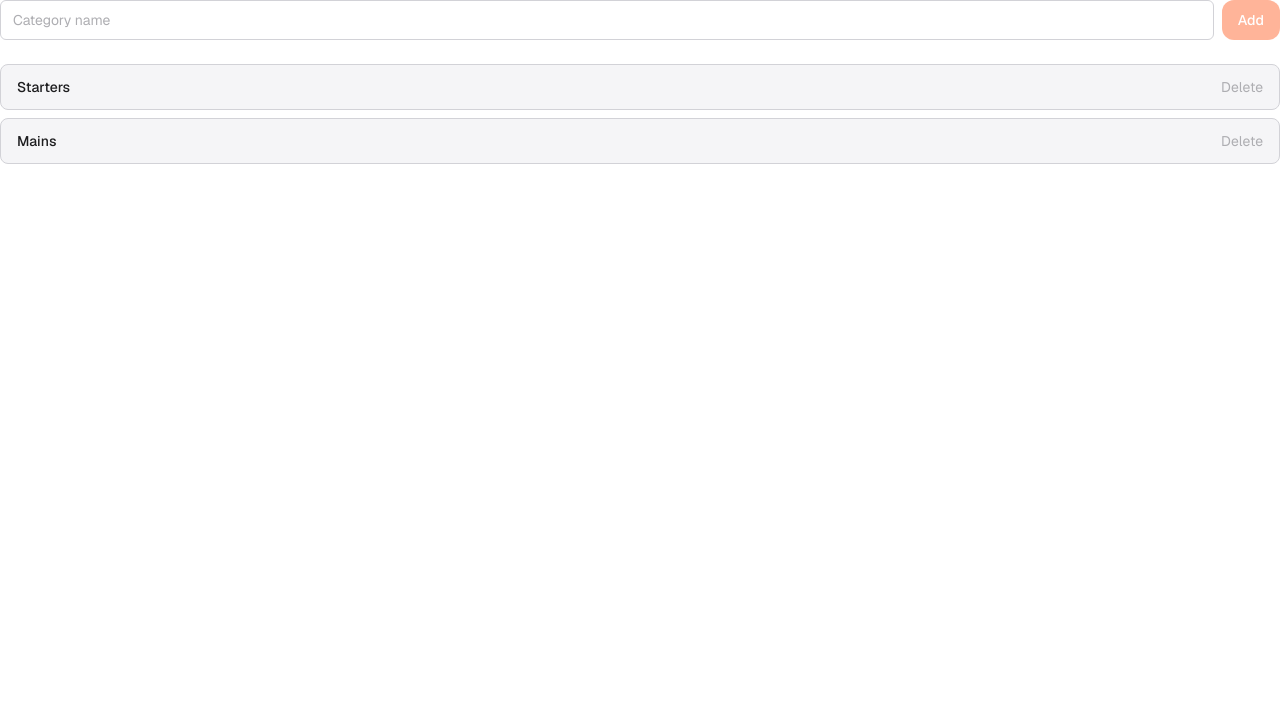
CategoryManager › shows inline error in dialog when deleteCategory fails
Step 1. Click the 1st button "Delete" → (1242, 87), box [1221,77,1263,97]
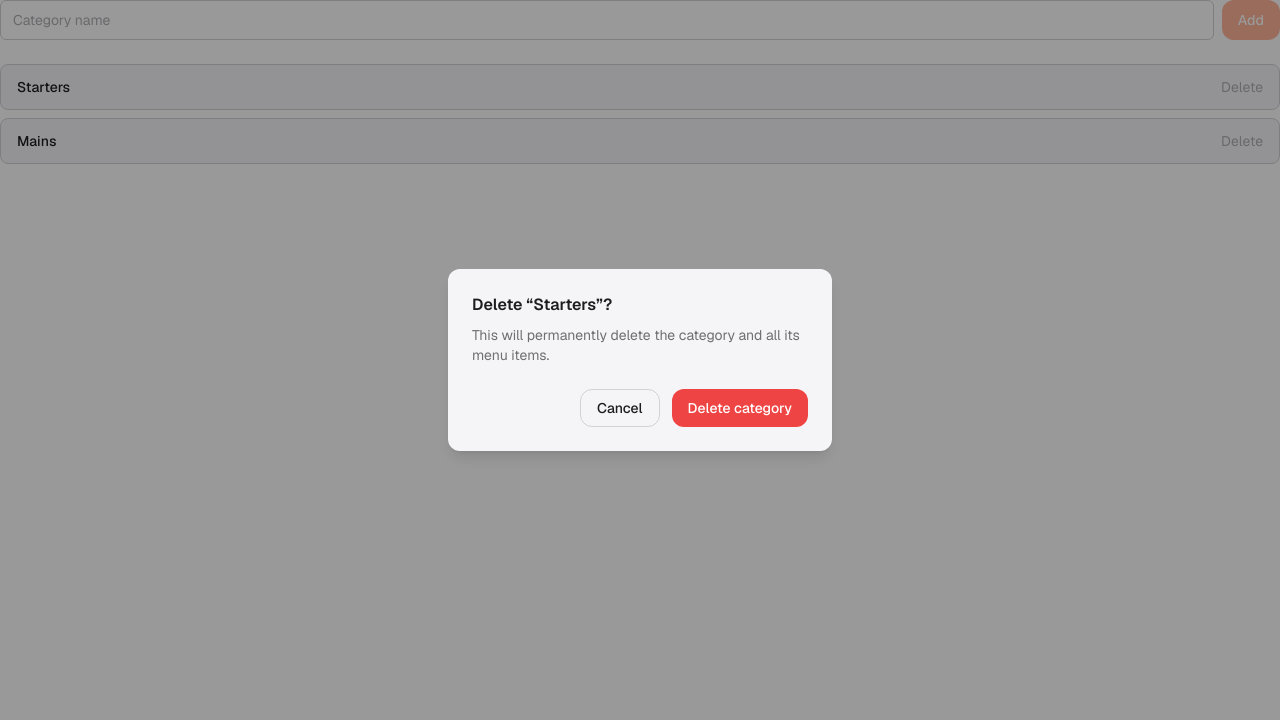
Step 2. Click the button "Delete category" → (740, 408), box [672,389,808,427]
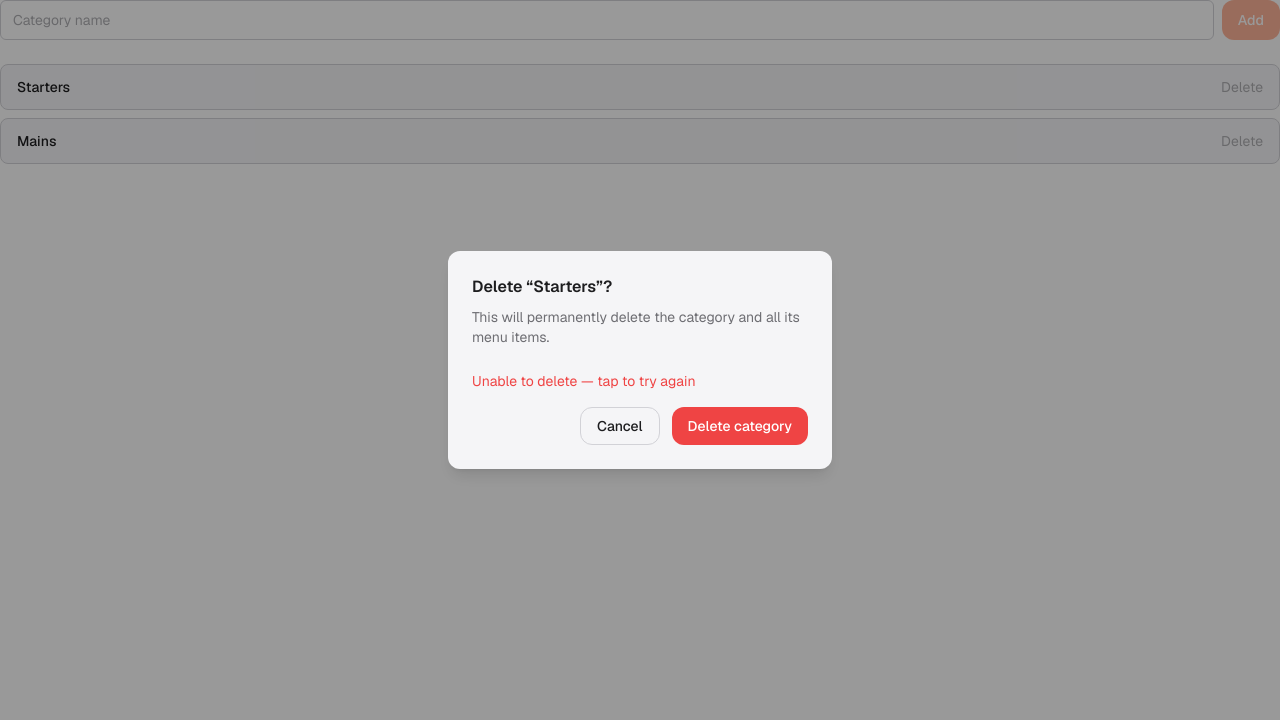
Check: the dialog is shown
Check: the message shows "Unable to delete", box [472,372,696,390]
